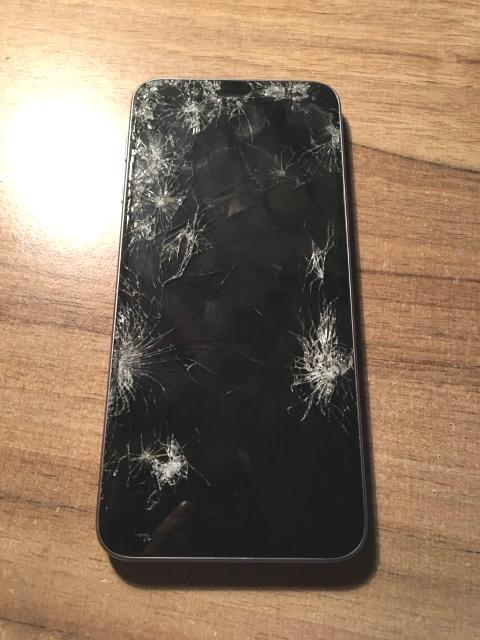Crack: (129, 78, 344, 219), (103, 221, 233, 423), (264, 222, 378, 442), (94, 426, 229, 529)
